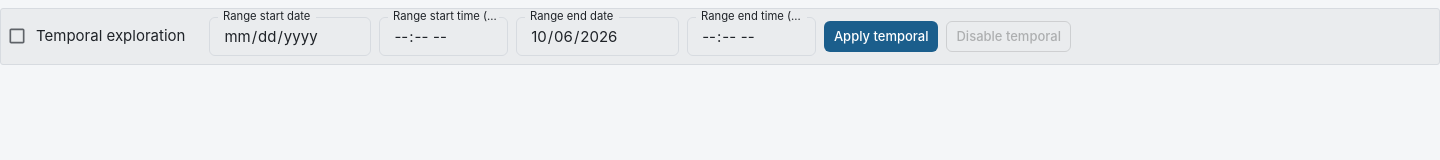
Test: PR 38-8 GraphTemporalControls › T-C07: a cleared end date is rejected with localized wording
The image size is (1440, 160).
Click the checkbox labelled "Temporal exploration". click: (96, 36)
box: [7,26,185,46]
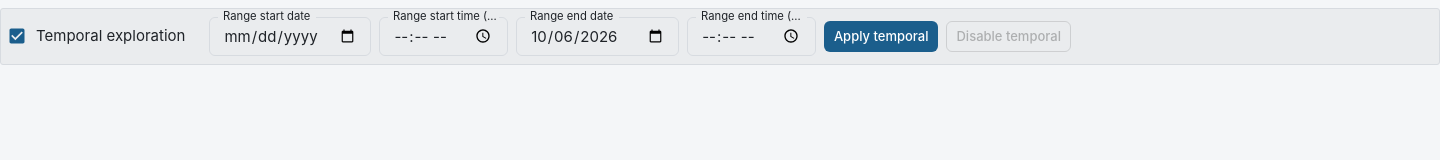
Type "2026-10-01" into the date field labelled "Range start date". click: (290, 36)
box: [209,17,371,56]
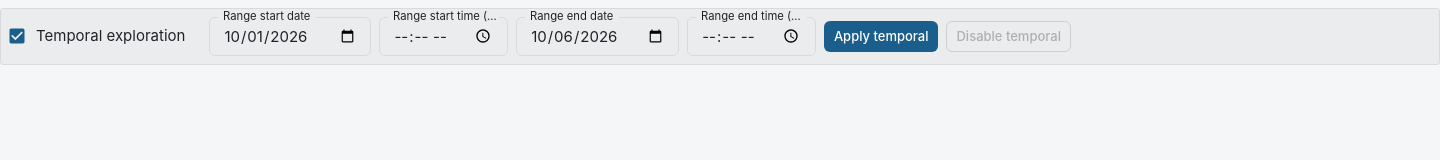
Clear the date field labelled "Range end date". click: (598, 36)
box: [516,17,679,56]
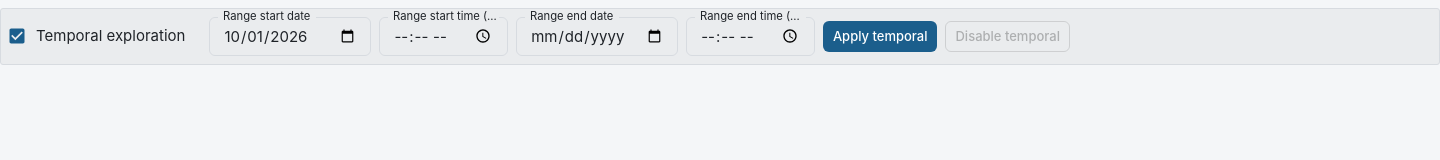
Click the button "Apply temporal". click: (880, 36)
box: [823,21,938,52]
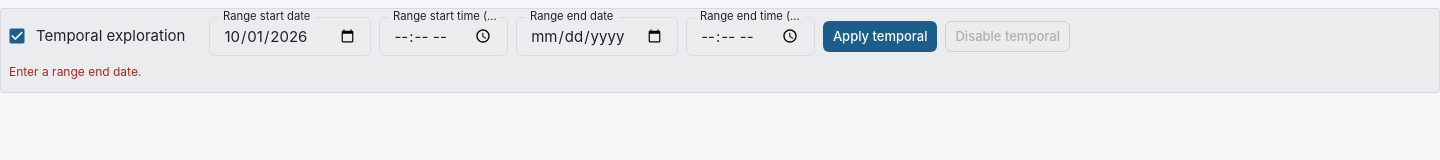
Now the message reads "Enter a range end date.", box [9,64,141,79]
